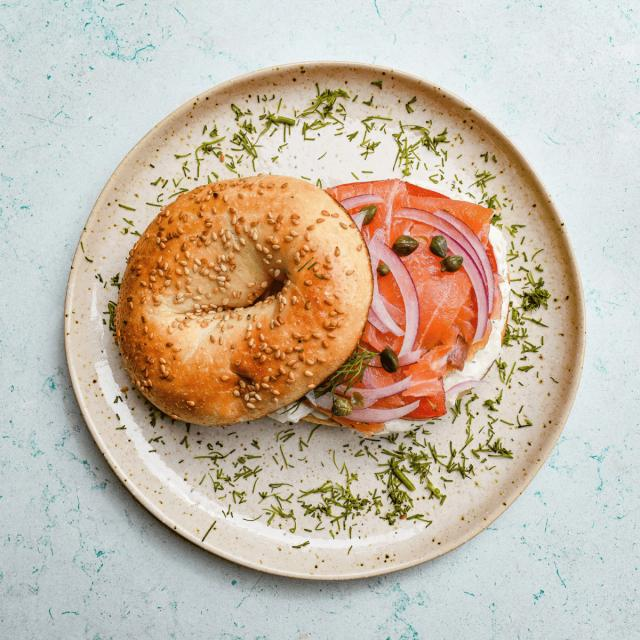Bagel: (115, 175, 372, 425)
